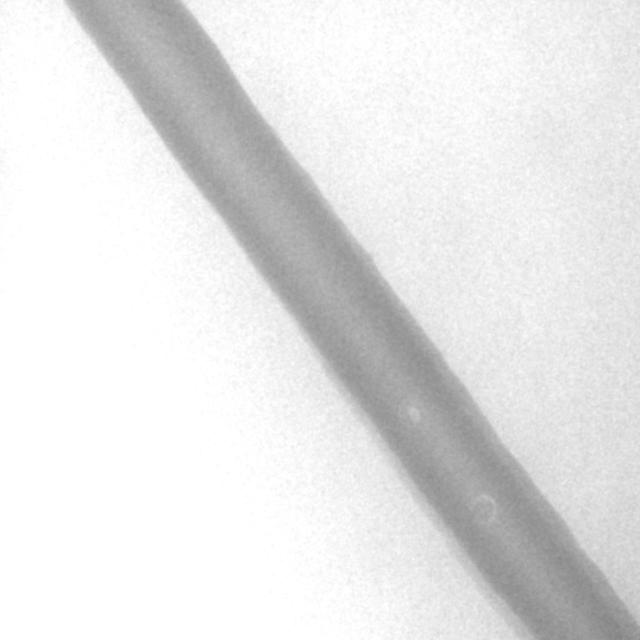hollow bead: (465, 492, 497, 528)
